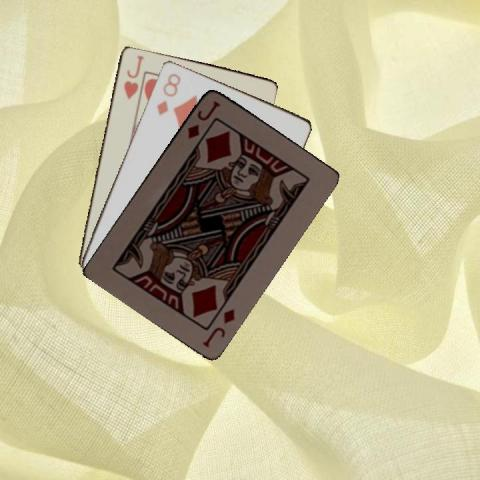8d: (153, 69, 182, 116)
Jd: (199, 305, 237, 349), (184, 97, 221, 140)
Jh: (120, 52, 144, 100)
